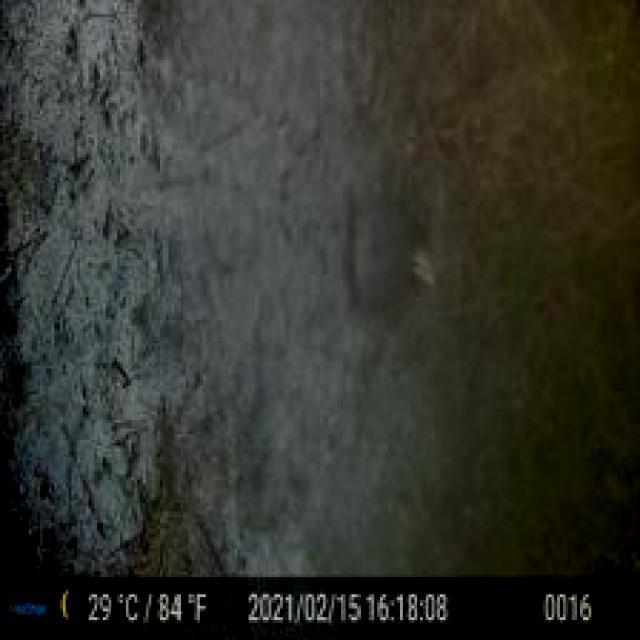tortoise: (346, 180, 414, 312)
